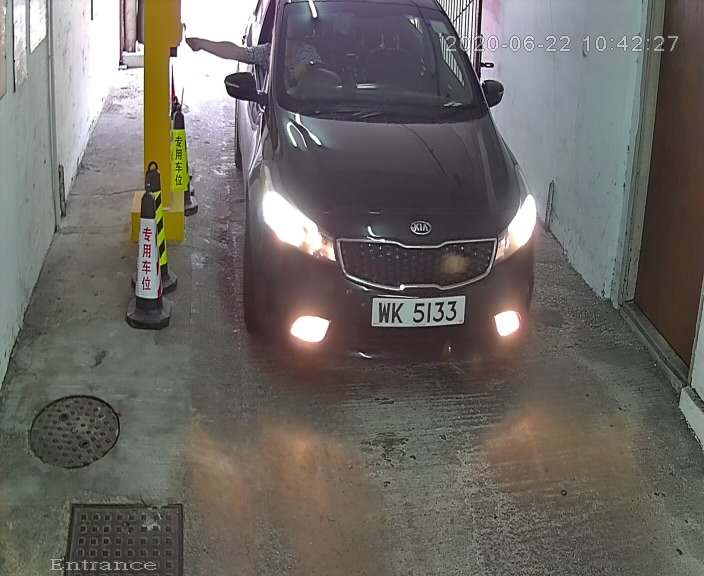privatecar: (206, 1, 586, 403)
